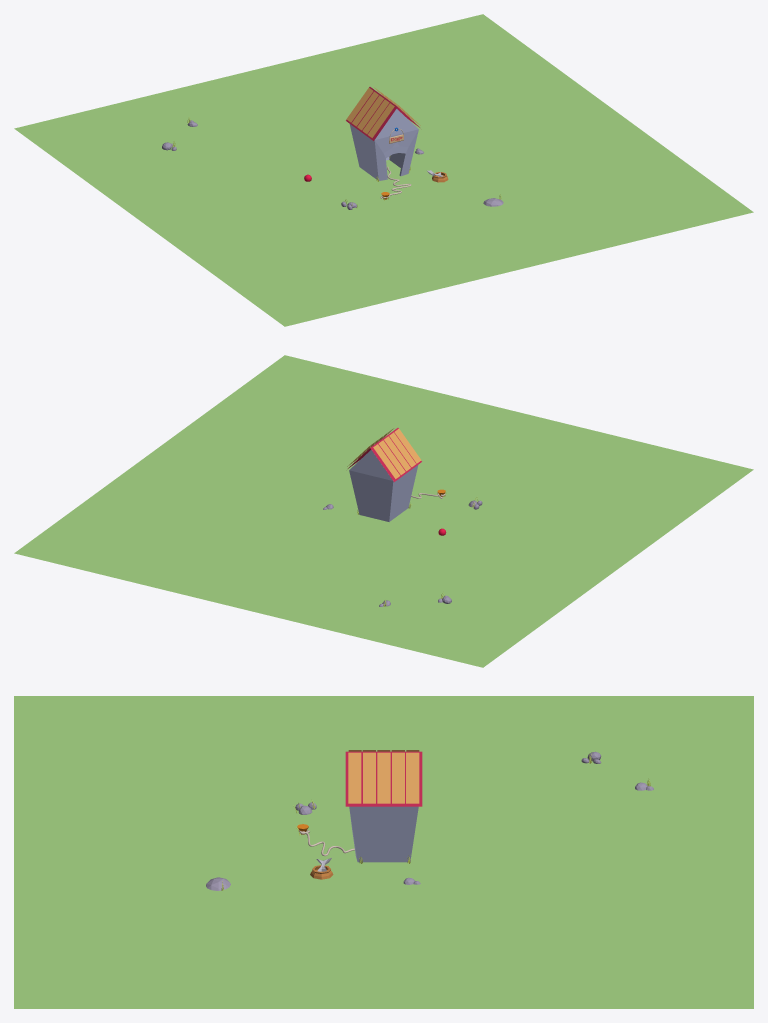
File: dog.glb
The picture shows the model from 3 angles, top to bottom: view 1: azimuth 30°, elevation 25°; view 2: azimuth 150°, elevation 25°; view 3: azimuth 270°, elevation 25°; orthographic projection. The views are drawn at different scales.
Parts seen in each view (by area): view 1: Plane, house base, roof; view 2: Plane, house base, roof; view 3: Plane, roof, house base, house top.
Part boxes in pixels (<box>): Plane: <box>14,14,753,326</box>; house base: <box>349,109,418,180</box>; roof: <box>346,87,420,137</box>; Plane: <box>14,355,753,667</box>; house base: <box>349,450,418,521</box>; roof: <box>347,428,421,478</box>; Plane: <box>14,696,753,1008</box>; roof: <box>348,750,419,803</box>; house base: <box>349,806,418,862</box>; house top: <box>345,751,422,806</box>.
Size of the model in its own units: 21.51 by 3.7 by 21.51.
